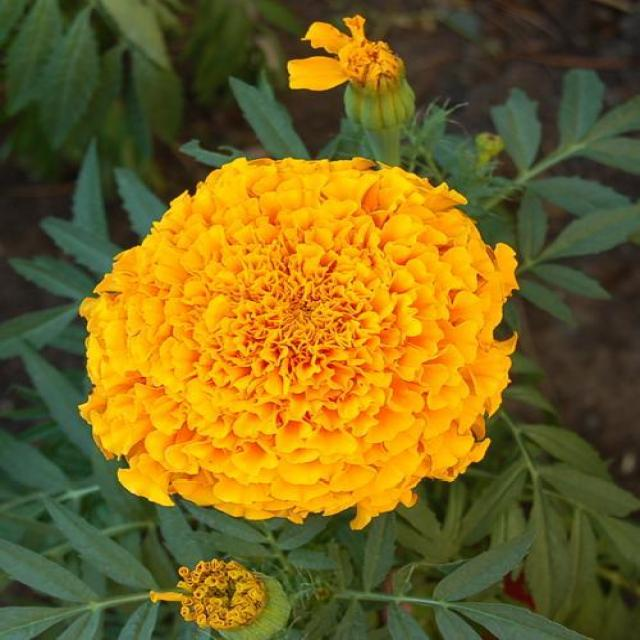marigold: (71, 44, 520, 576)
